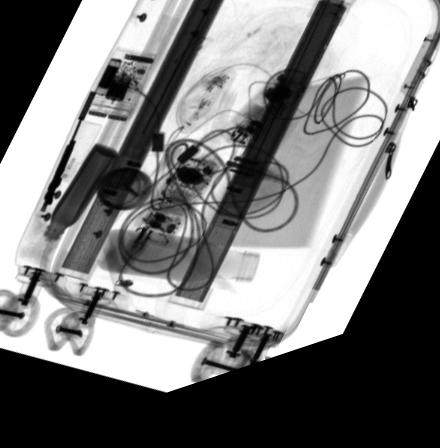Gun: (39, 97, 96, 216)
